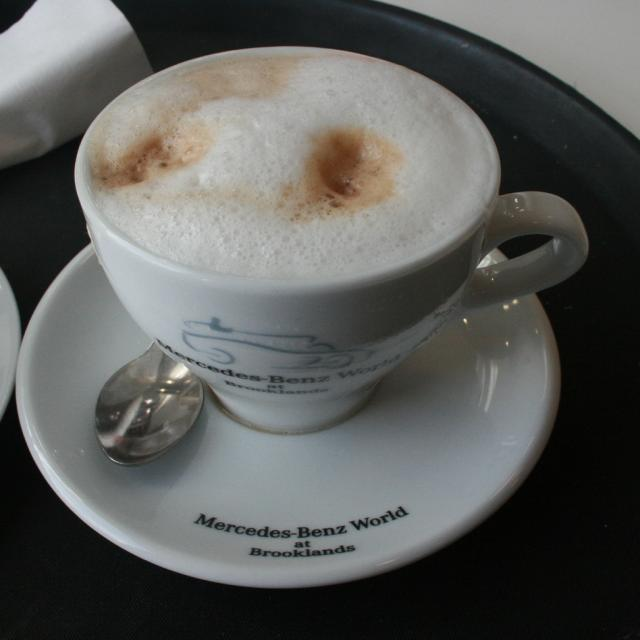Coffee: (94, 57, 493, 279)
